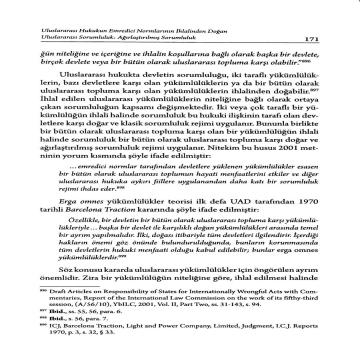footer: (48, 288, 325, 339)
header: (37, 27, 234, 41)
